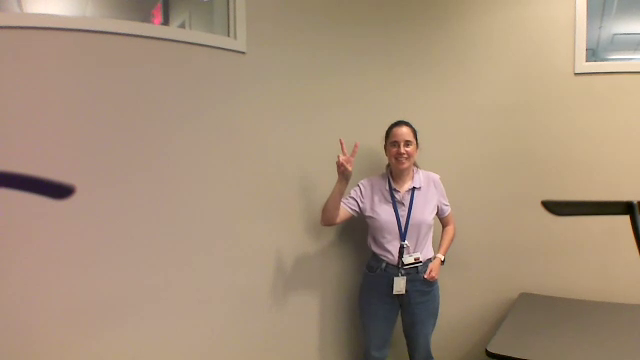peace: (330, 137, 364, 179)
